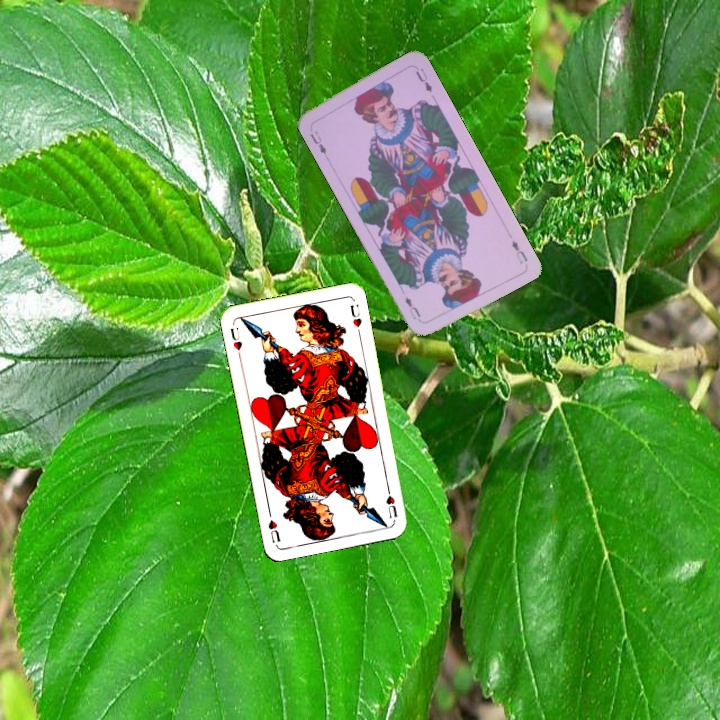EU: (507, 236, 530, 267), (306, 127, 329, 157)
HU: (226, 323, 245, 360), (382, 482, 400, 520)
